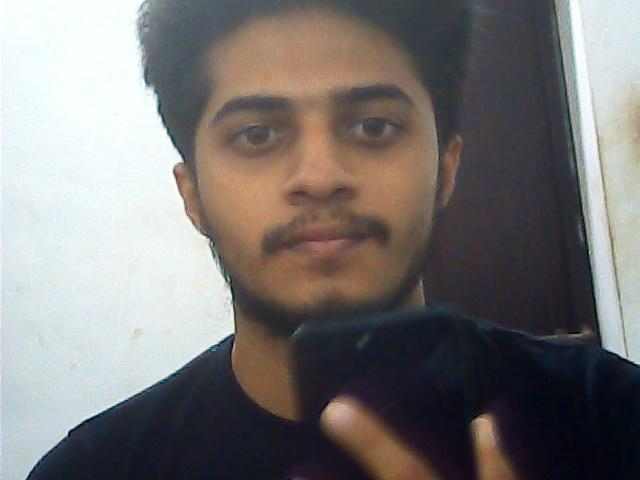PhoneUse: (282, 310, 490, 470)
SafeDriving: (330, 95, 420, 154), (215, 105, 302, 160)
